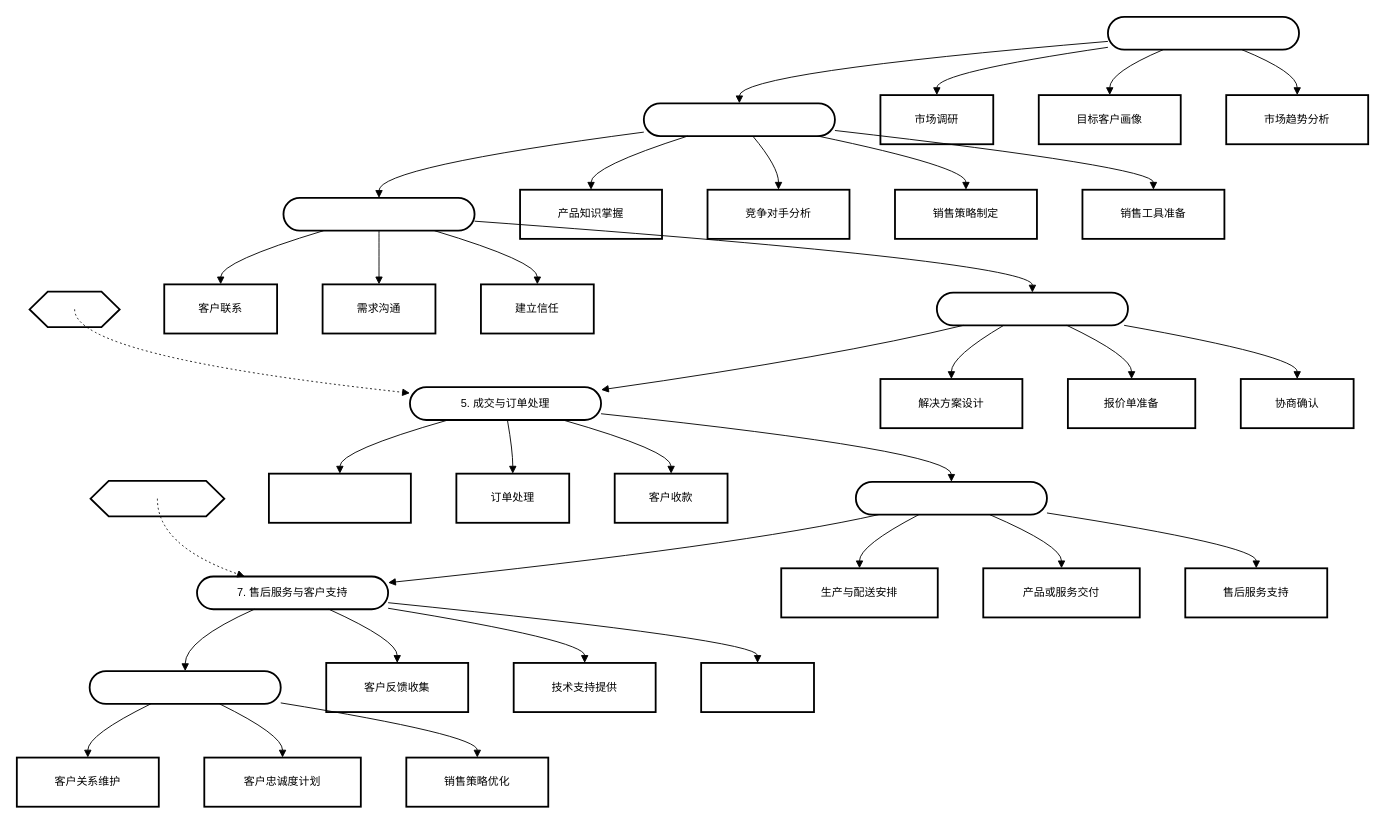
This 1384x823 diagram has some shape labels left out. The centre of each missing label's shape, as x and y in pixels:
"1. 需求发现与市场调研" belongs at point (1203, 32).
"2. 销售准备" belongs at point (738, 119).
"3. 客户沟通与需求挖掘" belongs at point (378, 214).
"4. 提案与报价" belongs at point (1031, 308).
"6. 履行与交付" belongs at point (950, 497).
"8. 后续跟进与客户忠诚度维护" belongs at point (184, 687).
"反馈转化为行动" belongs at point (157, 498).
"投诉处理" belongs at point (757, 687).
"部门协调" belongs at point (74, 309).
"销售合同签订" belongs at point (339, 497).
